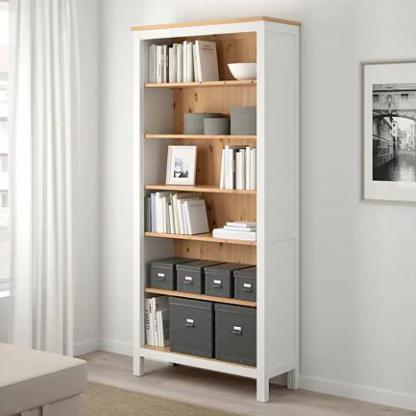lamp: (128, 15, 302, 405)
